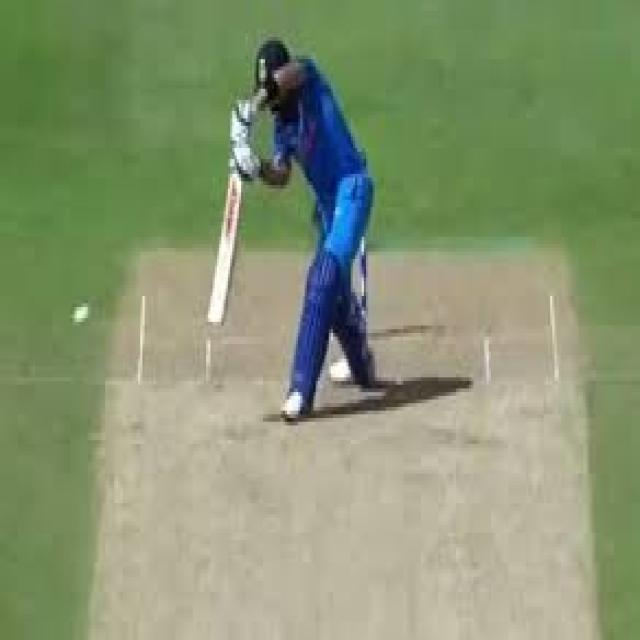bat: (200, 160, 246, 357)
toe: (205, 318, 228, 328)
